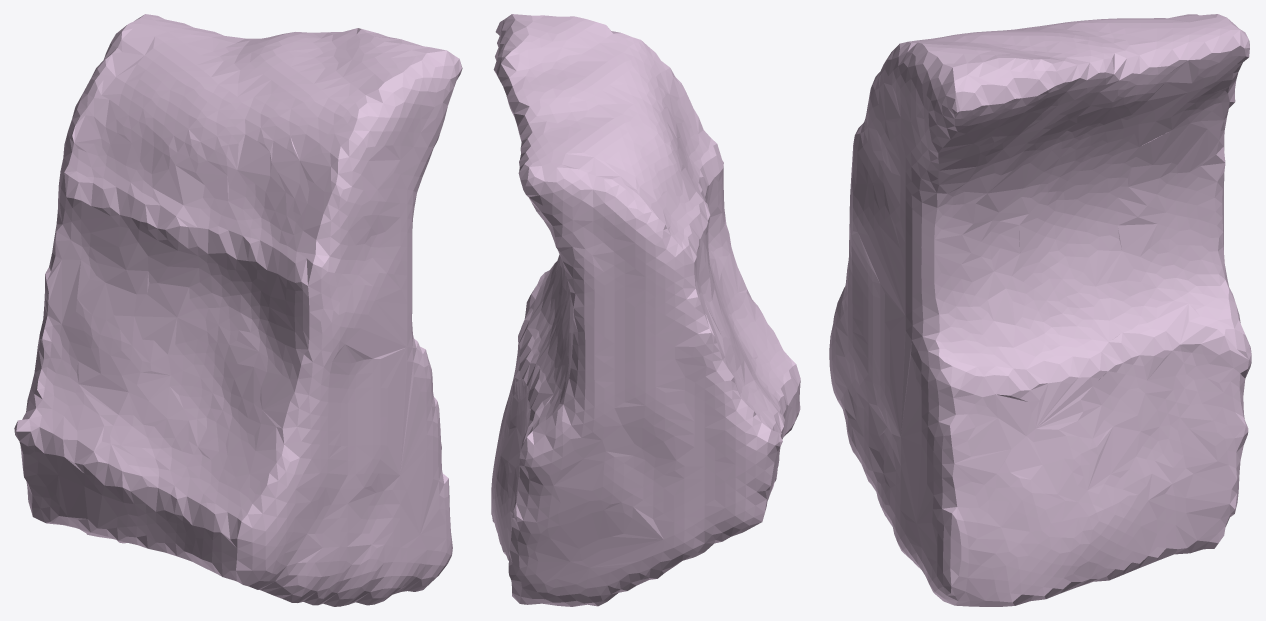
Rendered from Model_97_RH__Medial_intraparietal_area_of_cortex_(MIP).obj.
3 renders of one model, left to right at view 1: azimuth 30°, elevation 25°; view 2: azimuth 150°, elevation 25°; view 3: azimuth 270°, elevation 25°, orthographic. The views are drawn at different scales.
Bounding box in the file's own units: 2.8 × 3.72 × 2.64.
